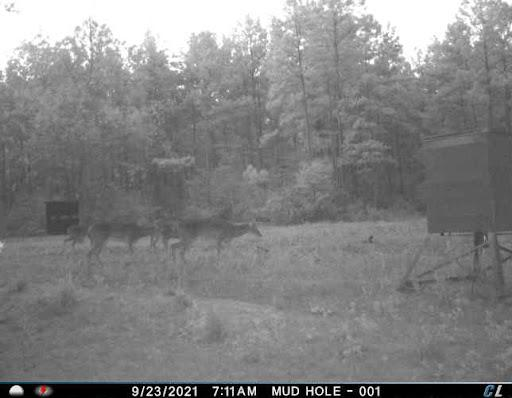Deer: (85, 215, 172, 289), (176, 210, 267, 272), (66, 217, 93, 257)
